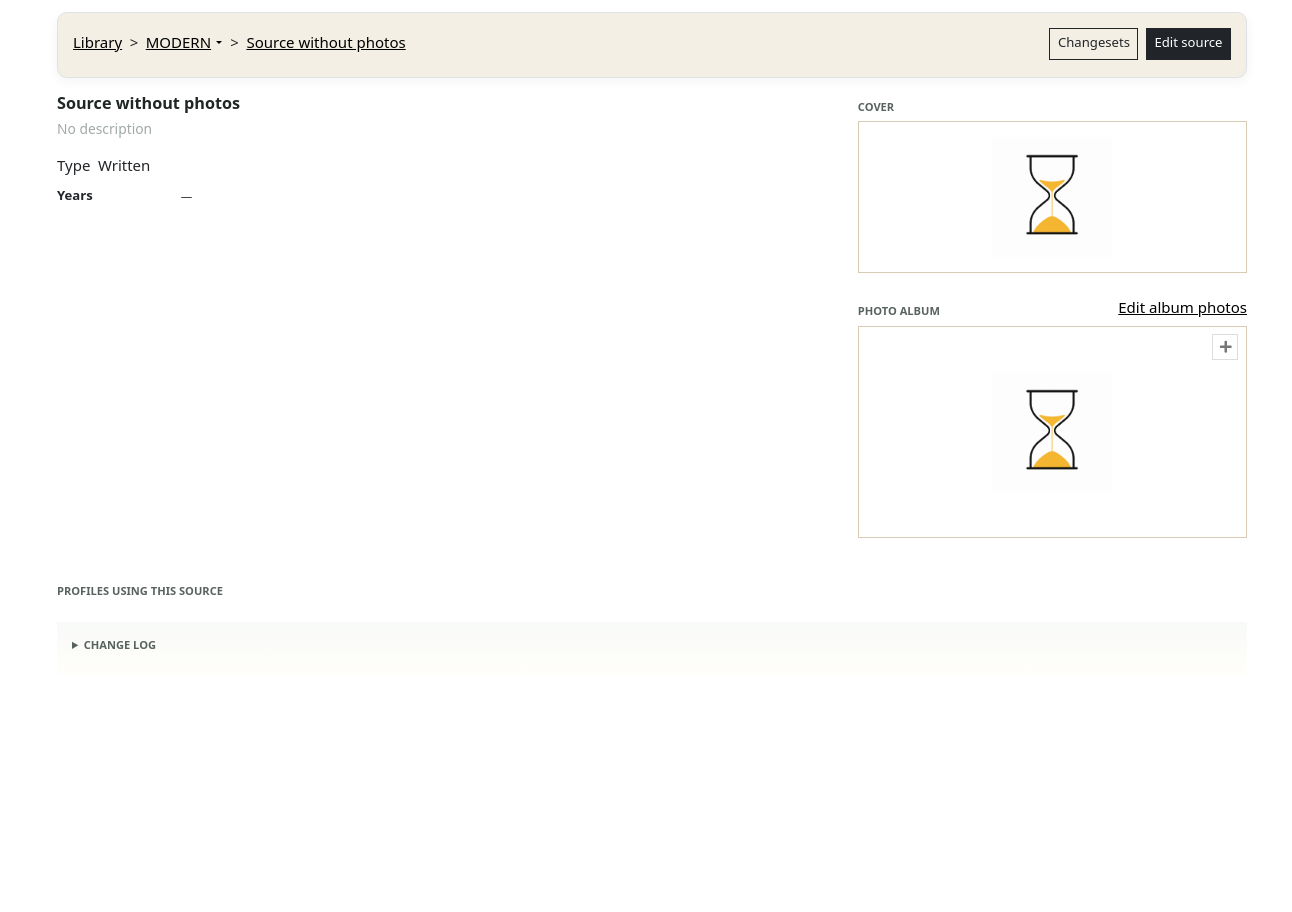
Test case: an editor can add the first source album photo through the shared gallery and proposal flow
Click the button named "Add image" at [1225, 347], box left=1212, top=334, right=1238, bottom=360
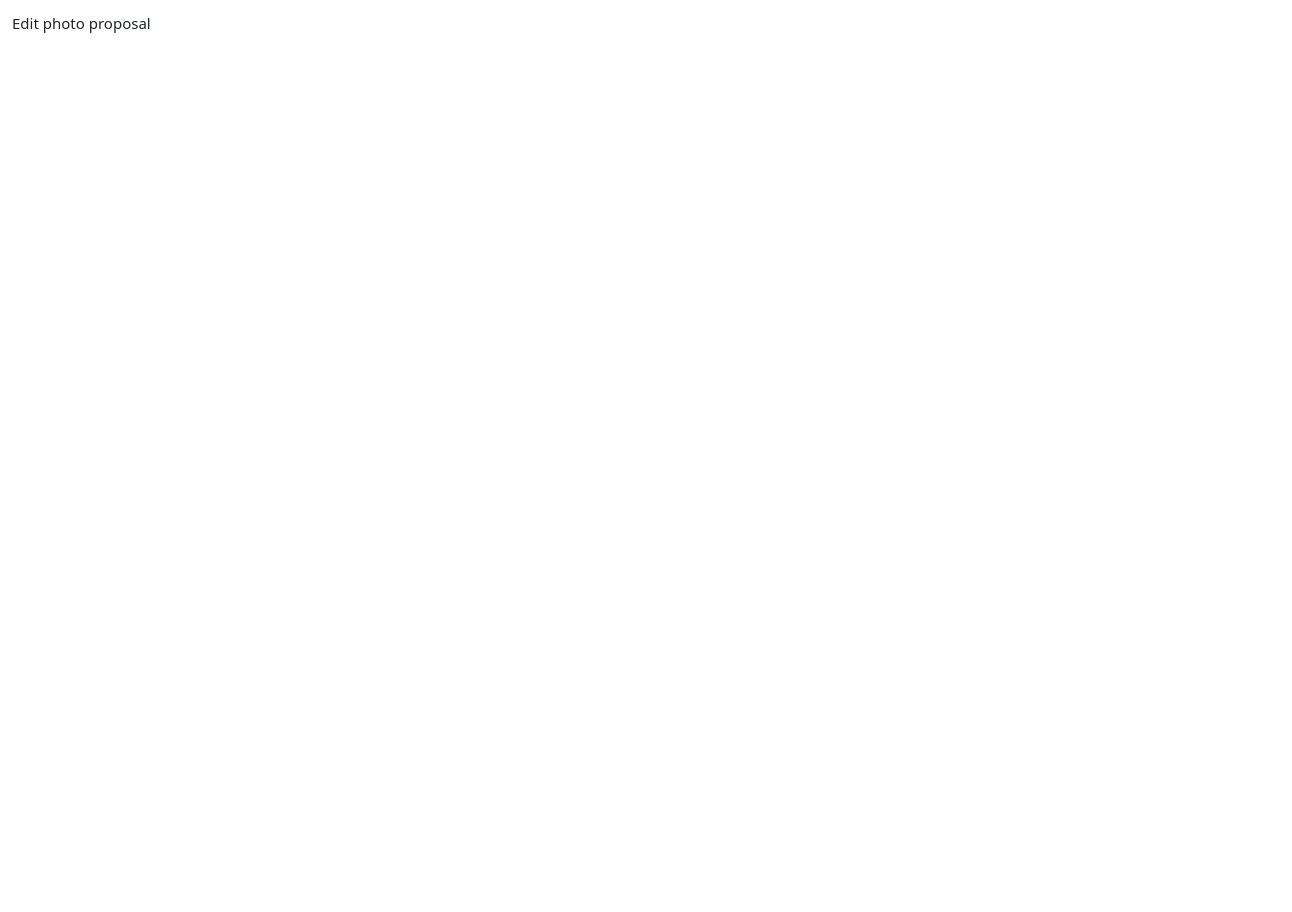
expect the text "Edit photo proposal" is shown: met, box left=12, top=13, right=151, bottom=33
